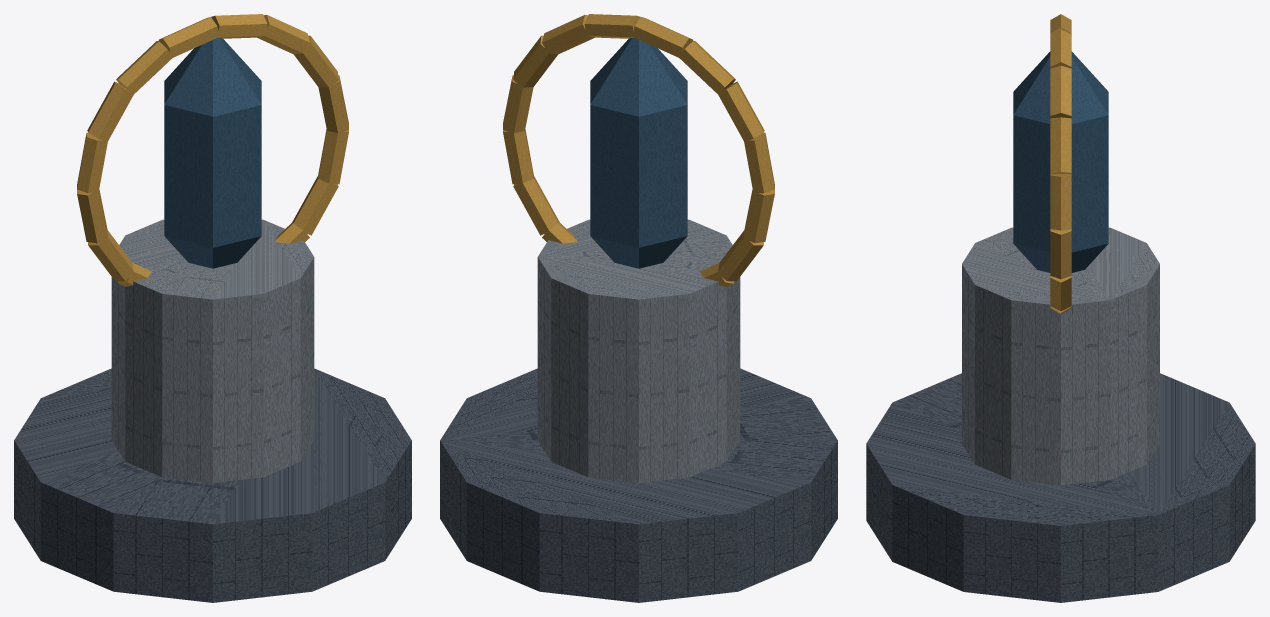
The model's file is ward_device.glb.
The picture shows the model from 3 angles, left to right: view 1: azimuth 30°, elevation 25°; view 2: azimuth 150°, elevation 25°; view 3: azimuth 270°, elevation 25°; orthographic projection. The views are drawn at different scales.
Visible parts, largest first — view 1: base, pedestal, crystal, ring6, ring5, ring14, ring7, ring4, ring15, ring8, ring3, ring9 (+3 smaller); view 2: base, pedestal, crystal, ring6, ring5, ring14, ring7, ring4, ring15, ring8, ring3, ring9 (+3 smaller); view 3: base, pedestal, crystal, ring1, ring0, ring2, ring15, ring3, ring14.
Part boxes in pixels (x1,y1,x2,y2): base: (14,368,411,602); pedestal: (111,219,314,482); crystal: (164,38,261,268); ring6: (87,81,133,142); ring5: (116,41,172,94); ring14: (292,176,338,235); ring7: (77,132,107,193); ring4: (158,17,218,57); ring15: (318,129,348,184); ring8: (77,189,107,243); ring3: (211,14,267,38); ring9: (88,230,134,281); base: (440,368,837,602); pedestal: (537,219,740,482); crystal: (590,38,687,268); ring6: (718,81,764,142); ring5: (679,41,735,93); ring14: (513,176,559,235); ring7: (744,132,774,193); ring4: (633,17,693,57); ring15: (503,129,533,184); ring8: (744,189,774,243); ring3: (584,14,640,38); ring9: (717,230,763,281); base: (866,373,1255,602); pedestal: (962,227,1159,485); crystal: (1013,51,1108,272); ring1: (1050,117,1071,173); ring0: (1050,174,1071,230); ring2: (1050,65,1071,118); ring15: (1050,229,1071,279); ring3: (1050,29,1071,68); ring14: (1050,276,1071,310).
Bounding box in the file's own units: 1.1 × 1.53 × 1.1.
Materials: 1 (1 with a texture image).
